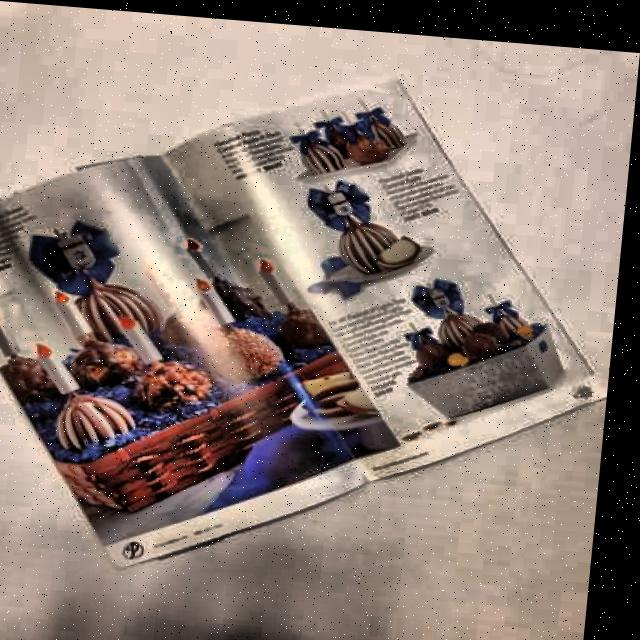paper: (0, 43, 636, 603)
